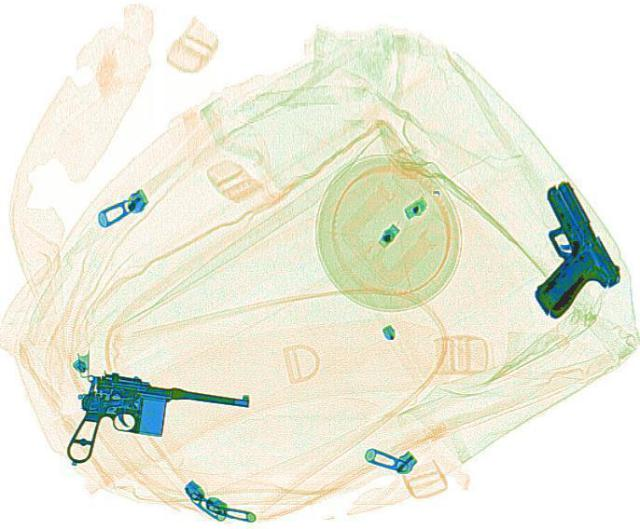Gun: (59, 367, 250, 483), (484, 179, 632, 320)
